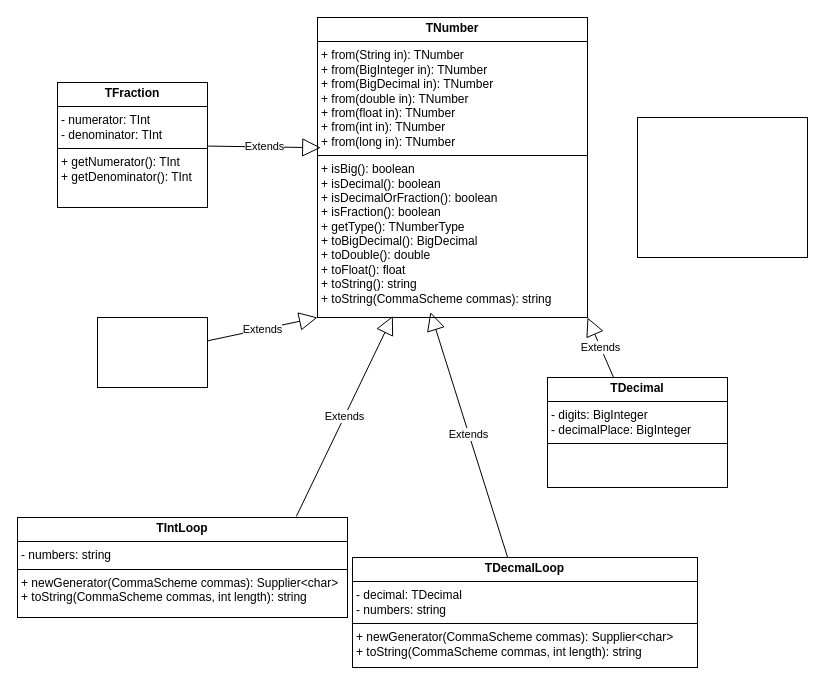
The diagram is 825 pixels wide and 685 high, and some of its shapes have lost their labels. The shapes that lost their labels are listed below. From the top down, each one's centre as x and y in pixels, then its label:
At (x=722, y=187): "<<enumeration>> TNumberType TInt TIntLoop TFraction TDecimal TDecimalLoop".
At (x=152, y=352): "TInt - digits: BigInteger".
